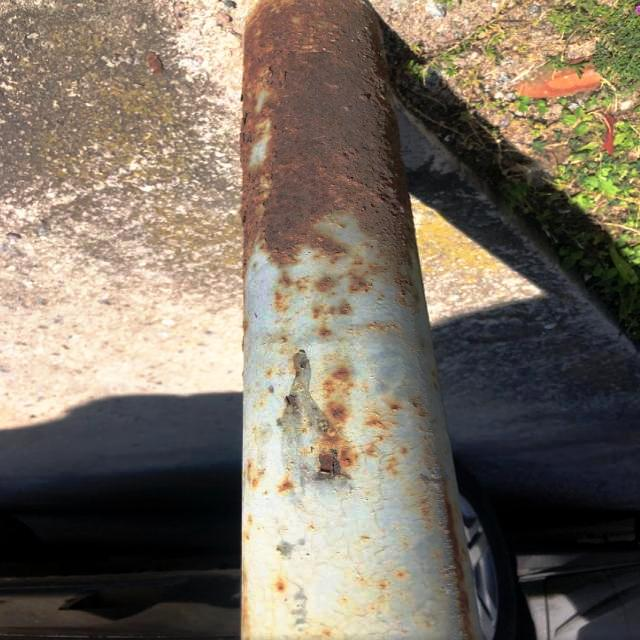Corrosion: (240, 0, 426, 320), (417, 474, 475, 640), (296, 354, 357, 479), (365, 436, 438, 467), (367, 398, 429, 429), (243, 456, 265, 491), (361, 321, 402, 333), (277, 478, 294, 495), (319, 326, 333, 341), (275, 580, 287, 594)
